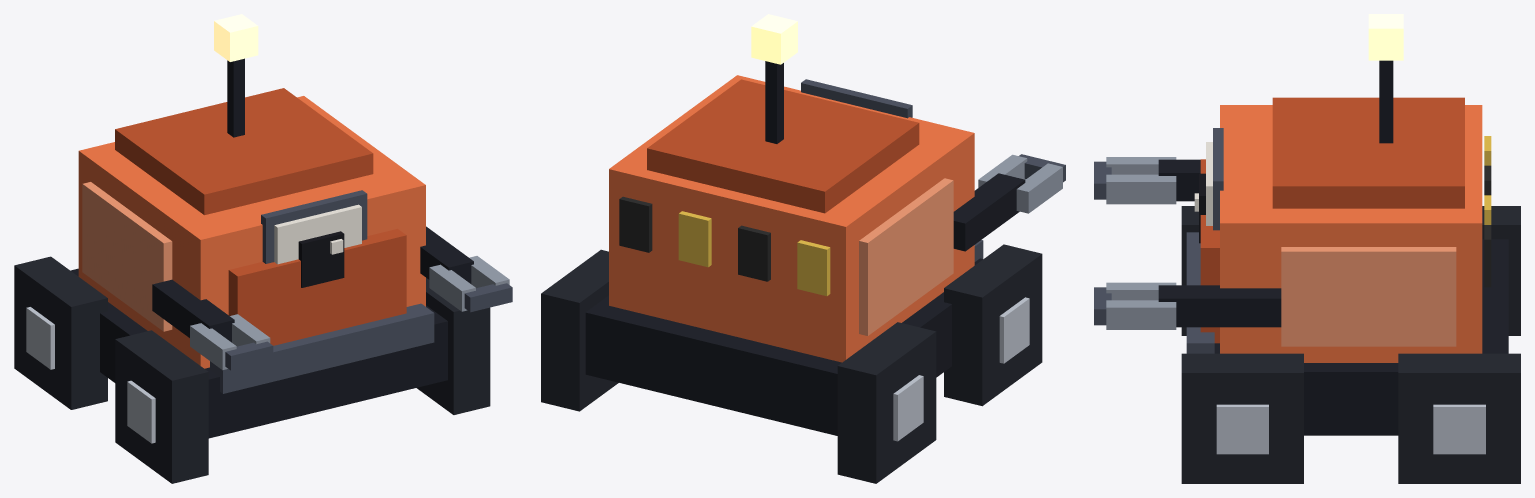
File: enemy-rusher.glb
3 renders of one model, left to right at view 1: azimuth 30°, elevation 25°; view 2: azimuth 150°, elevation 25°; view 3: azimuth 270°, elevation 25°, orthographic. The views are drawn at different scales.
Visible parts, largest first — view 1: body, body_top, body_front, base, wheel_fr, wheel_br, body_side_r, body_bumper, wheel_fl, eye_white, claw_r_arm, eye_rim (+12 smaller); view 2: body, body_top, base, wheel_br, wheel_fr, body_side_r, wheel_bl, claw_r_arm, glow_tip, stripe_2, stripe_0, stripe_3 (+7 smaller); view 3: body, body_top, body_side_l, wheel_bl, wheel_fl, base, claw_l_arm, wheel_bl_hub, wheel_fl_hub, wheel_br, claw_r_b, claw_l_a (+13 smaller).
Boxes of the visible parts, box(x1,y1,x2,y2) form: body: box(78, 96, 425, 368); body_top: box(115, 88, 373, 215); body_front: box(228, 228, 406, 345); base: box(70, 268, 447, 438); wheel_fr: box(115, 330, 208, 483); wheel_br: box(14, 256, 107, 409); body_side_r: box(82, 182, 172, 331); body_bumper: box(210, 303, 434, 393); wheel_fl: box(417, 278, 490, 414); eye_white: box(274, 204, 361, 264); claw_r_arm: box(152, 279, 234, 342); eye_rim: box(261, 190, 367, 263); body: box(609, 75, 974, 362); body_top: box(647, 79, 919, 213); base: box(585, 258, 982, 435); wheel_br: box(837, 322, 936, 483); wheel_fr: box(944, 244, 1042, 406); body_side_r: box(859, 178, 953, 335); wheel_bl: box(541, 249, 618, 411); claw_r_arm: box(953, 173, 1025, 251); glow_tip: box(751, 14, 797, 64); stripe_2: box(678, 211, 711, 267); stripe_0: box(797, 240, 830, 296); stripe_3: box(619, 196, 652, 252); body: box(1220, 105, 1482, 362); body_top: box(1272, 97, 1464, 208); body_side_l: box(1281, 247, 1456, 346); wheel_bl: box(1398, 353, 1520, 483); wheel_fl: box(1181, 353, 1303, 483); base: box(1214, 239, 1508, 435); claw_l_arm: box(1158, 285, 1281, 327); wheel_bl_hub: box(1433, 404, 1485, 454); wheel_fl_hub: box(1216, 404, 1268, 454); wheel_br: box(1482, 206, 1520, 335); claw_r_b: box(1106, 174, 1176, 204); claw_l_a: box(1106, 300, 1176, 329).
Bounding box in the file's own units: 2.32 × 2.39 × 2.44.
